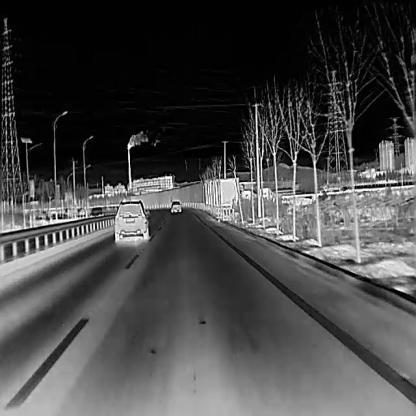car: (113, 198, 148, 242), (88, 206, 102, 221), (170, 200, 182, 212)
